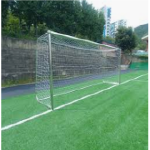goals: (34, 28, 124, 111)
